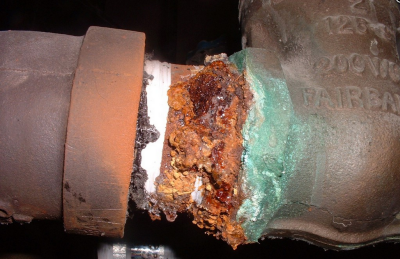rust: (172, 64, 241, 231)
